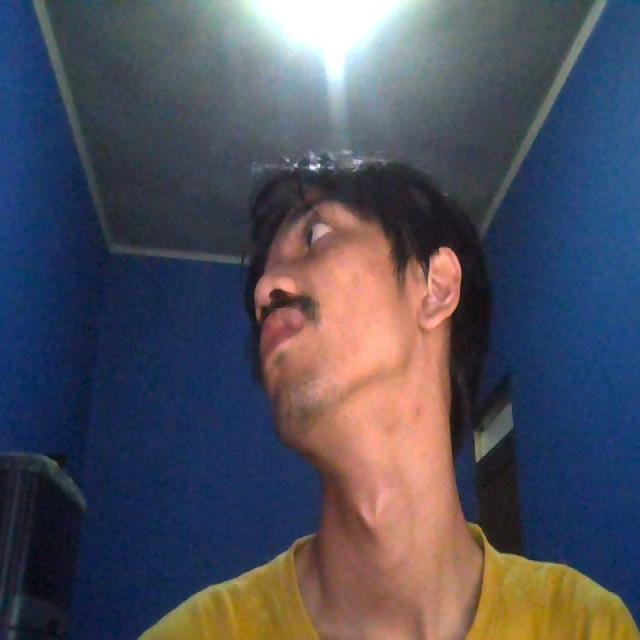Melihat kekanan: (226, 157, 534, 488)
